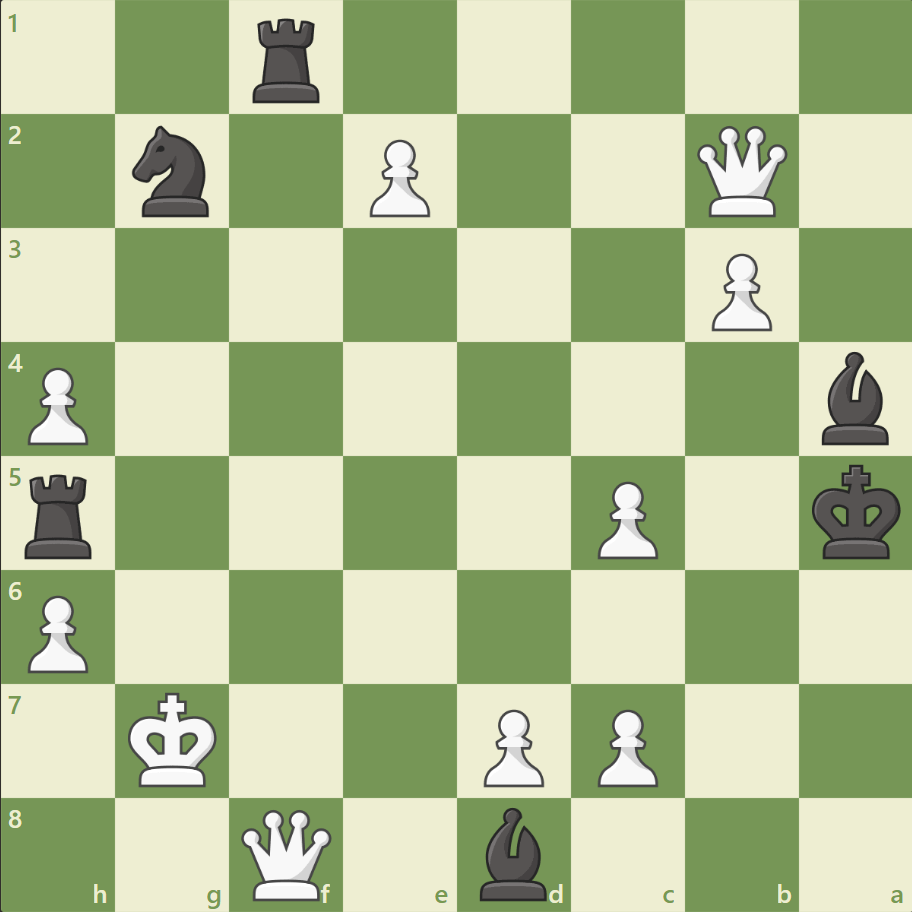K: (124, 685, 224, 793)
P: (474, 700, 549, 791), (20, 586, 95, 677), (20, 359, 95, 450), (701, 246, 776, 337), (588, 700, 662, 791), (588, 473, 662, 564), (361, 132, 435, 223)
Q: (691, 122, 790, 222), (237, 804, 336, 903)
b: (471, 801, 555, 904), (812, 347, 896, 449)
k: (806, 458, 906, 566)
n: (124, 121, 222, 223)
r: (19, 466, 102, 563), (246, 12, 329, 109)
